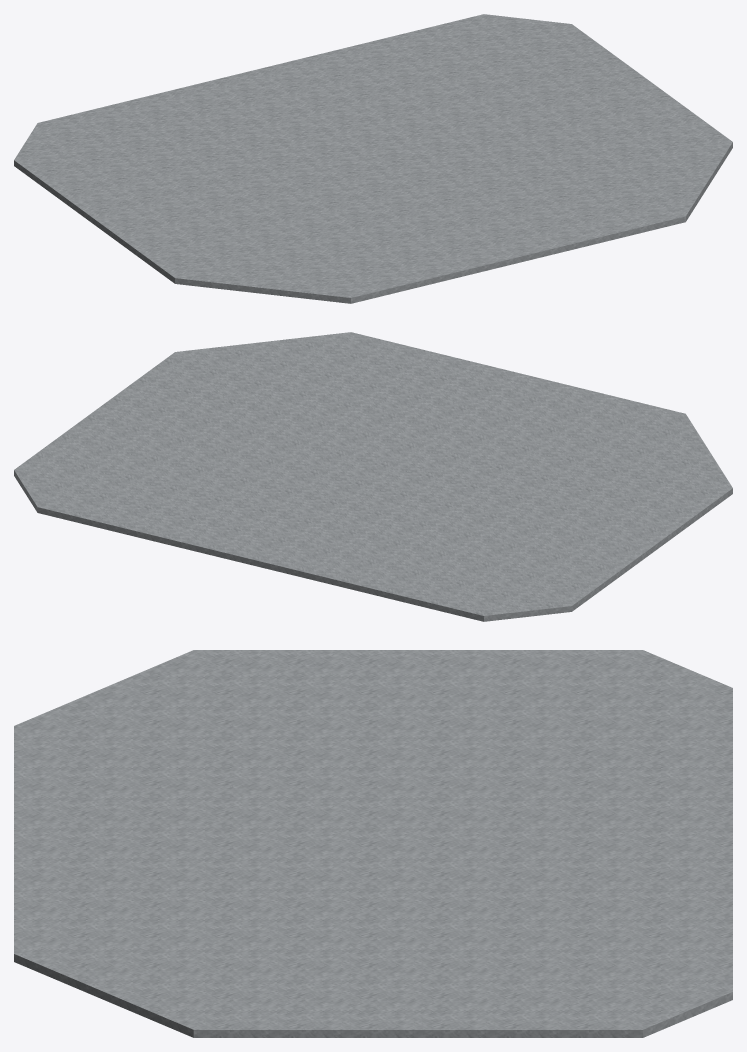
3 views of the same model, one above another, from view 1: azimuth 30°, elevation 25°; view 2: azimuth 150°, elevation 25°; view 3: azimuth 270°, elevation 25° (orthographic). The views are drawn at different scales.
Parts seen in each view (by area): view 1: Material2; view 2: Material2; view 3: Material2.
Part boxes in pixels (bbox=[...]): Material2: bbox=[14, 14, 732, 303]; Material2: bbox=[14, 332, 732, 621]; Material2: bbox=[14, 650, 732, 1037].
Bounding box in the file's own units: 100 × 1 × 80.
1 material, 1 textured.
